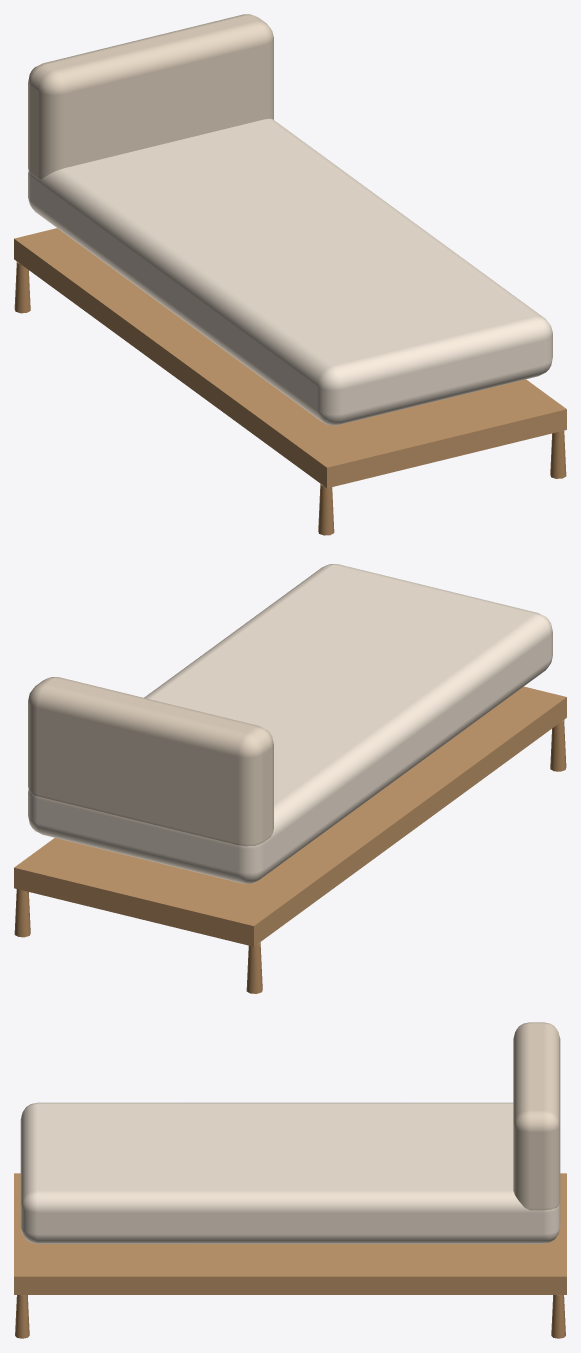
File: chaise-lite.glb
3 renders of one model, top to bottom at view 1: azimuth 30°, elevation 25°; view 2: azimuth 150°, elevation 25°; view 3: azimuth 270°, elevation 25°, orthographic. The views are drawn at different scales.
Visible parts, largest first — view 1: material-2-upholstery, material-1-frame, material-3-accent, material-0-leg; view 2: material-2-upholstery, material-1-frame, material-3-accent, material-0-leg; view 3: material-2-upholstery, material-1-frame, material-3-accent, material-0-leg.
Boxes of the visible parts, x1=… form: material-2-upholstery: x1=28, y1=118, x2=552, y2=425; material-1-frame: x1=14, y1=228, x2=566, y2=488; material-3-accent: x1=28, y1=14, x2=273, y2=179; material-0-leg: x1=14, y1=261, x2=566, y2=535; material-2-upholstery: x1=28, y1=564, x2=552, y2=883; material-1-frame: x1=14, y1=686, x2=566, y2=946; material-3-accent: x1=28, y1=677, x2=273, y2=846; material-0-leg: x1=14, y1=720, x2=566, y2=993; material-2-upholstery: x1=20, y1=1102, x2=560, y2=1243; material-1-frame: x1=14, y1=1173, x2=566, y2=1294; material-3-accent: x1=513, y1=1022, x2=560, y2=1210; material-0-leg: x1=15, y1=1295, x2=565, y2=1338.
Bounding box in the file's own units: 0.75 × 0.72 × 1.65.
